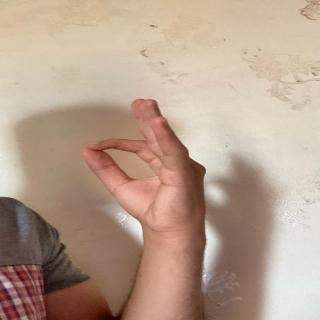Space: (80, 95, 222, 230)
